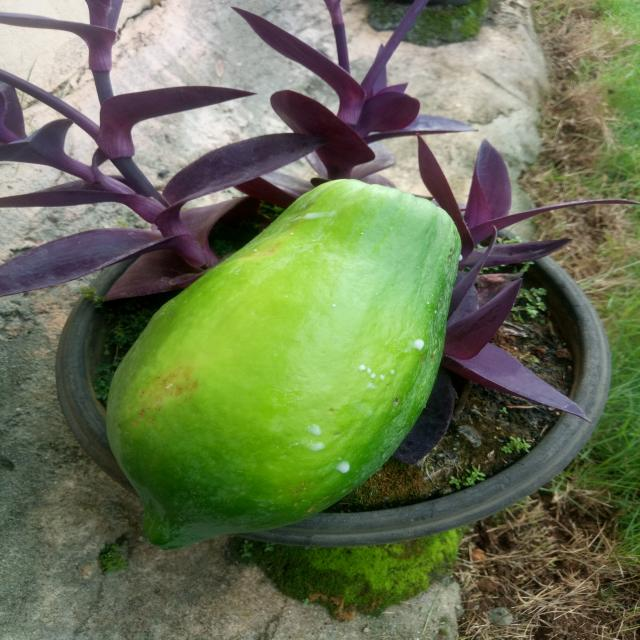Pepaya unrippen: (87, 170, 460, 540)
